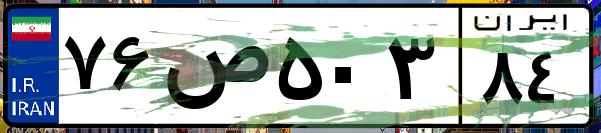0: (330, 28, 385, 110)
3: (385, 28, 445, 110)
4: (525, 38, 570, 115)
5: (270, 28, 330, 110)
6: (110, 28, 158, 98)
7: (57, 26, 110, 100)
8: (475, 38, 525, 113)
ص: (158, 20, 270, 120)
